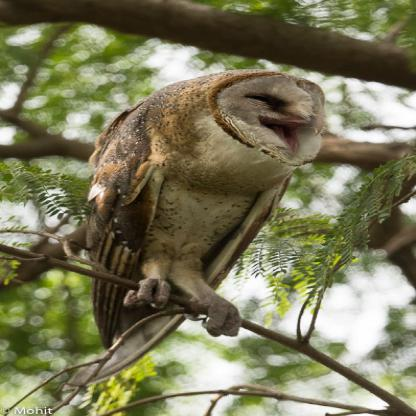Burung: (89, 71, 327, 352)
